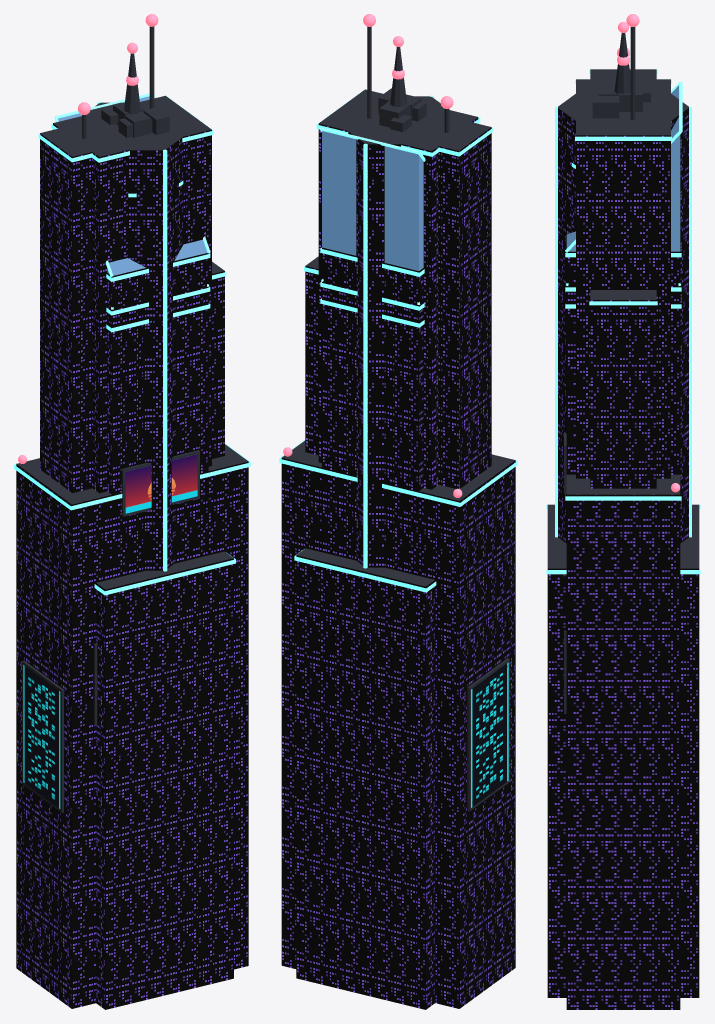
Rendered from city.glb.
3 views of the same model, side by side, from view 1: azimuth 30°, elevation 25°; view 2: azimuth 150°, elevation 25°; view 3: azimuth 270°, elevation 25° (orthographic). The views are drawn at different scales.
Visible parts, largest first — view 1: Windows.001, Windows.007, Windows.003, Windows.005, Windows.006, Windows, Advert glyphs, Tower, Tower.007, Windows.004, Advert sunset, Trim.006 (+8 smaller); view 2: Windows.001, Windows.007, Windows.003, Windows.006, Tower glass.001, Windows, Advert glyphs, Tower, Windows.004, Tower.007, Trim.006, Tower.003 (+6 smaller); view 3: Windows.007, Windows, Windows.001, Windows.003, Windows.006, Tower, Windows.005, Trim.006, Tower.001, Tower.003, Tower.007, Tower glass.001 (+5 smaller).
Part boxes in pixels (x1,y1,x2,y2): Windows.001: (96, 323, 233, 1009); Windows.007: (16, 461, 248, 1008); Windows.003: (40, 133, 224, 492); Windows.005: (107, 286, 208, 578); Windows.006: (127, 137, 183, 570); Windows: (53, 123, 211, 493); Advert glyphs: (23, 665, 60, 808); Tower: (53, 26, 211, 156); Tower.007: (16, 444, 248, 812); Windows.004: (107, 253, 208, 324); Advert sunset: (125, 454, 197, 513); Trim.006: (97, 101, 167, 571); Windows.001: (296, 298, 435, 1009); Windows.007: (281, 458, 515, 1008); Windows.003: (305, 127, 491, 488); Windows.006: (347, 131, 403, 567); Tower glass.001: (322, 131, 423, 270); Windows: (318, 117, 478, 489); Advert glyphs: (471, 662, 508, 807); Tower: (319, 26, 477, 151); Windows.004: (322, 247, 423, 319); Tower.007: (282, 440, 514, 811); Trim.006: (363, 95, 433, 568); Tower.003: (305, 108, 491, 268); Windows.007: (566, 494, 680, 1009); Windows: (576, 135, 670, 478); Windows.001: (547, 568, 699, 997); Windows.003: (590, 300, 656, 488); Windows.006: (558, 108, 688, 543); Tower: (576, 27, 670, 135); Windows.005: (566, 286, 680, 474); Trim.006: (555, 106, 691, 537); Tower.001: (547, 33, 699, 568); Tower.003: (590, 69, 656, 299); Tower.007: (564, 474, 680, 713); Tower glass.001: (566, 85, 680, 251).
Size of the model in its own units: 22.48 by 112 by 16.31.
Materials: 9 (4 with a texture image).
